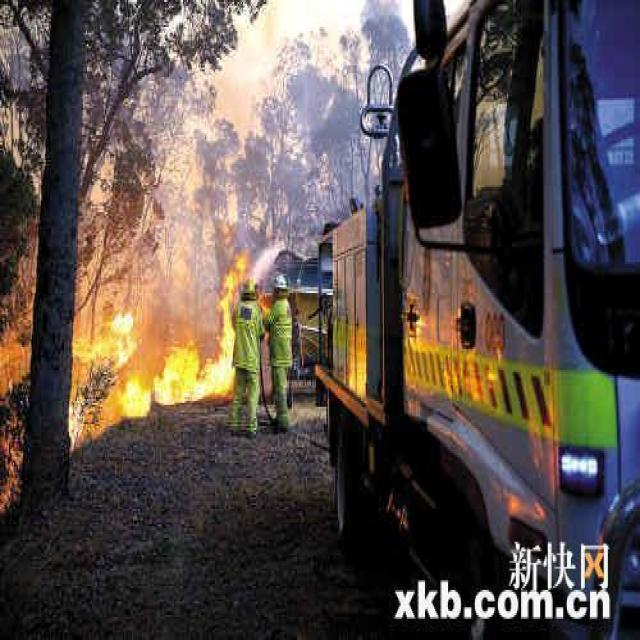fire: (4, 328, 236, 404), (211, 238, 253, 326)
